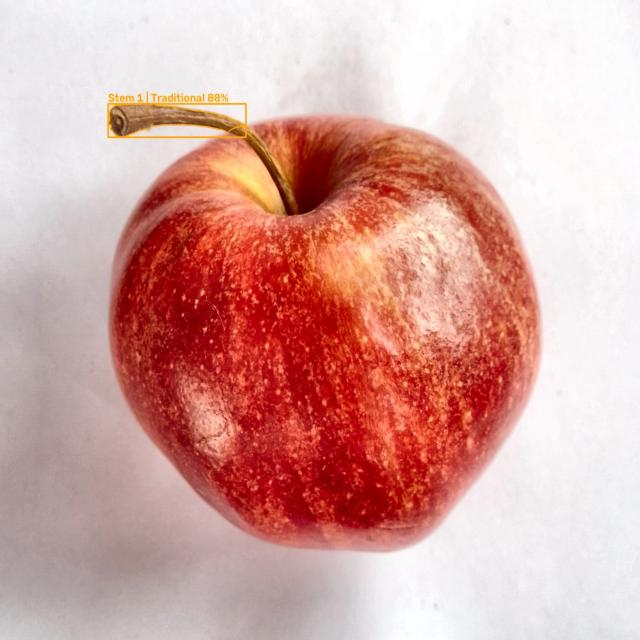Fruit-Stem-Detection: (110, 103, 298, 208)
